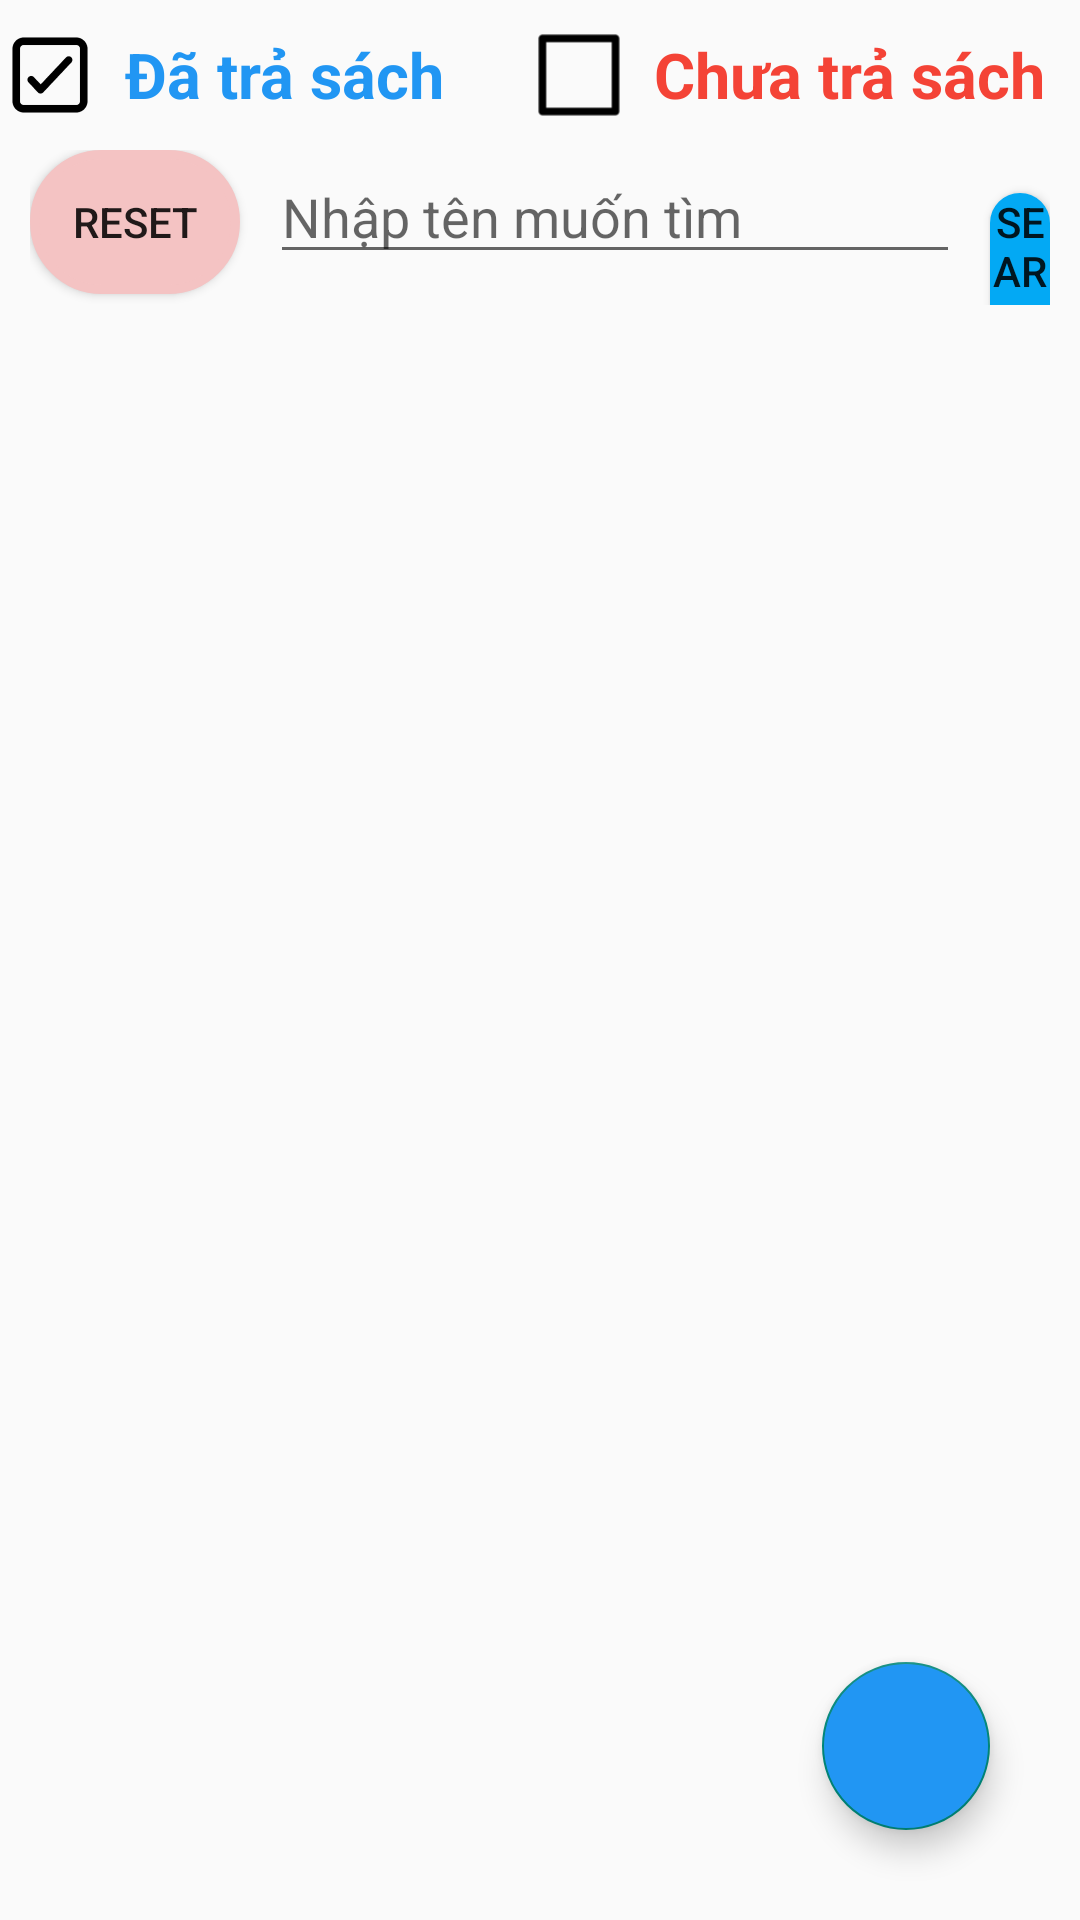

Point at icon controls on the screen. Image size 1080 × 1920, points as (x,y).
chuatra: (579,75)
datra: (50,75)
